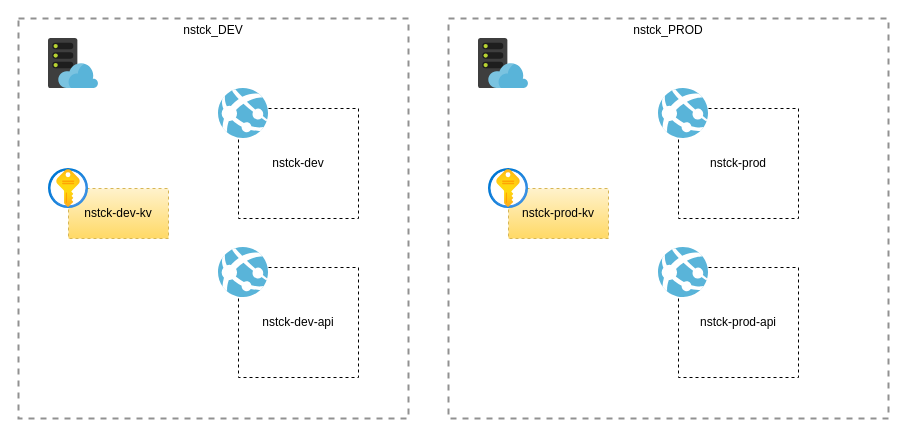
Some shapes in this 906 by 436 pixel diagram are drawn without their labels. Here are the shapes that lost their labels. From the top down, the centre of each, then its label:
At (x=73, y=63): "linux-small app service plan".
At (x=503, y=63): "linux-XL app service plan".
